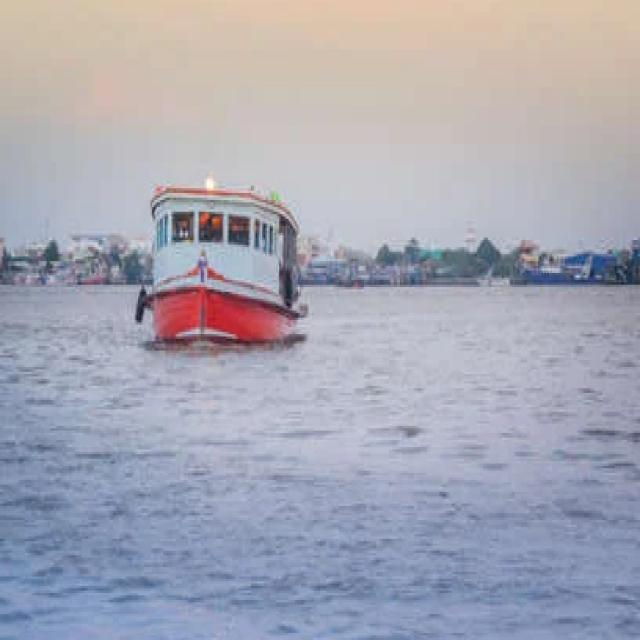houseboat: (132, 160, 326, 380)
